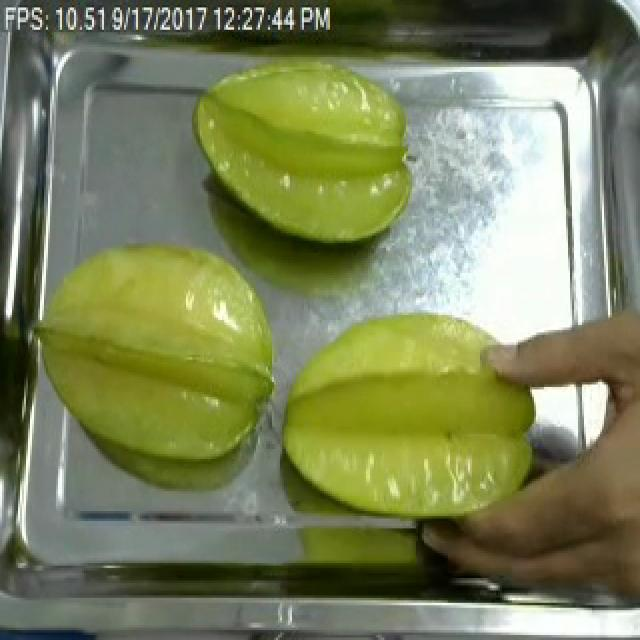fruit: (272, 302, 548, 536), (24, 233, 288, 474), (180, 39, 422, 256)
